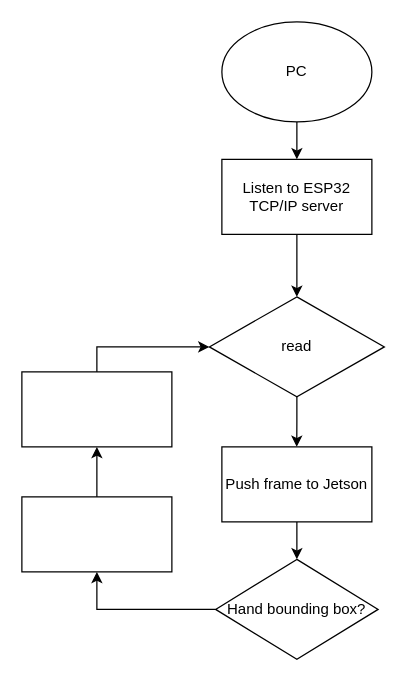
Some shapes in this 406 by 681 pixel diagram are drawn without their labels. Here are the shapes that lost their labels. From the top down, the centre of each, then its label:
the point at 96,409: write servo cmd
the point at 96,534: Display Frame with bounding box
